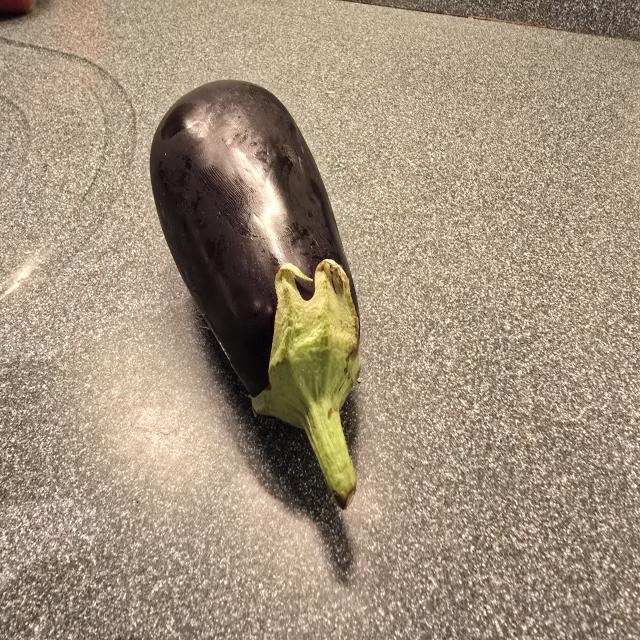Eggplant: (136, 69, 371, 527)
